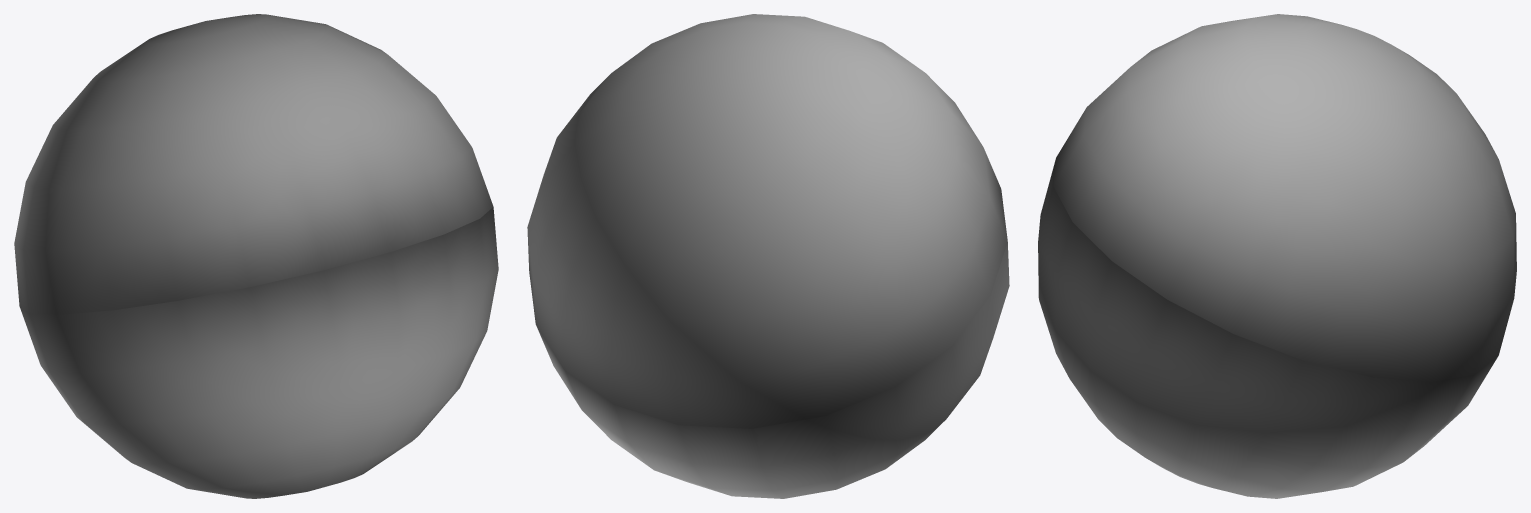
Rendered from trackpad_touch.obj.
3 renders of one model, left to right at view 1: azimuth 30°, elevation 25°; view 2: azimuth 150°, elevation 25°; view 3: azimuth 270°, elevation 25°, orthographic.
Visible parts, largest first — view 1: l_trackpad_touch; view 2: l_trackpad_touch; view 3: l_trackpad_touch.
Boxes of the visible parts, x1=… form: l_trackpad_touch: x1=14, y1=14, x2=498, y2=498; l_trackpad_touch: x1=527, y1=14, x2=1009, y2=498; l_trackpad_touch: x1=1038, y1=14, x2=1516, y2=498.
Size of the model in its own units: 0.00429 by 0.00428 by 0.00426.
1 material, 1 textured.
